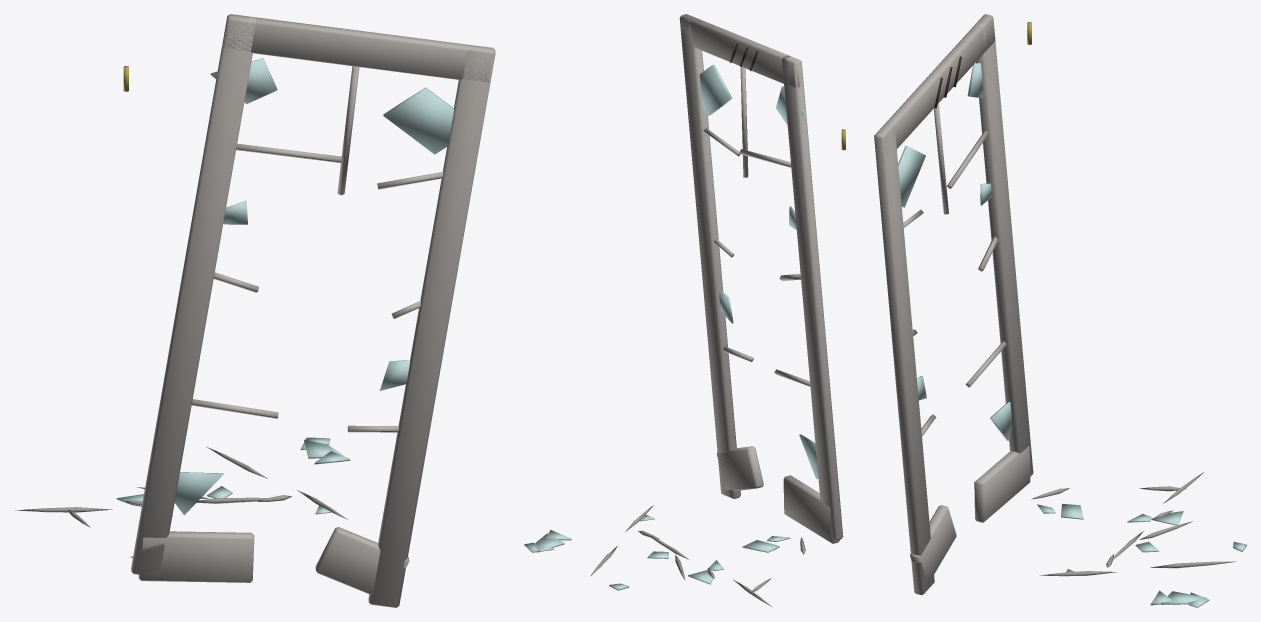
The model's file is door_shattered.glb.
The picture shows the model from 3 angles, left to right: view 1: azimuth 30°, elevation 25°; view 2: azimuth 150°, elevation 25°; view 3: azimuth 270°, elevation 25°; orthographic projection. The views are drawn at different scales.
Parts seen in each view (by area): view 1: door_shattered; view 2: door_shattered; view 3: door_shattered.
Boxes of the visible parts, x1,y1,x2,y2 form: door_shattered: (15, 14, 495, 607); door_shattered: (524, 14, 845, 606); door_shattered: (874, 14, 1246, 607).
Size of what is drawn, in the model's own units: 1.39 by 2.53 by 1.63.
